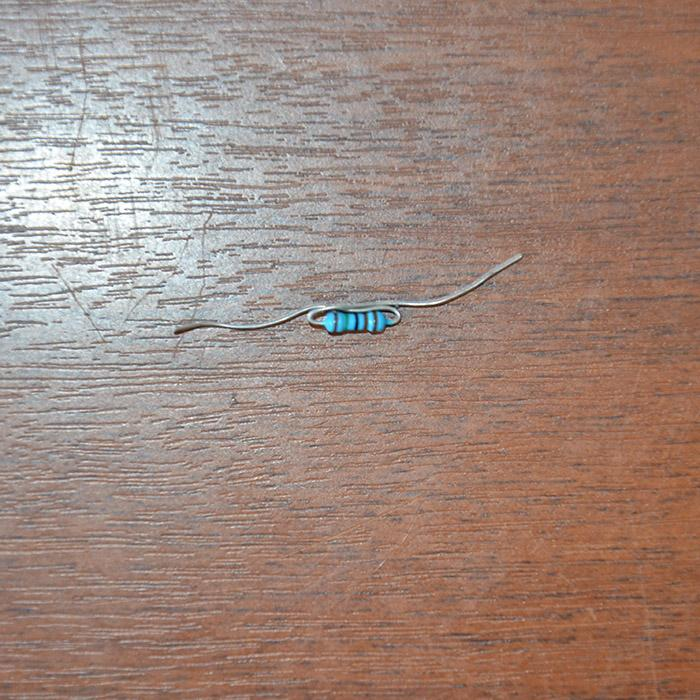resistor: (317, 308, 393, 335)
